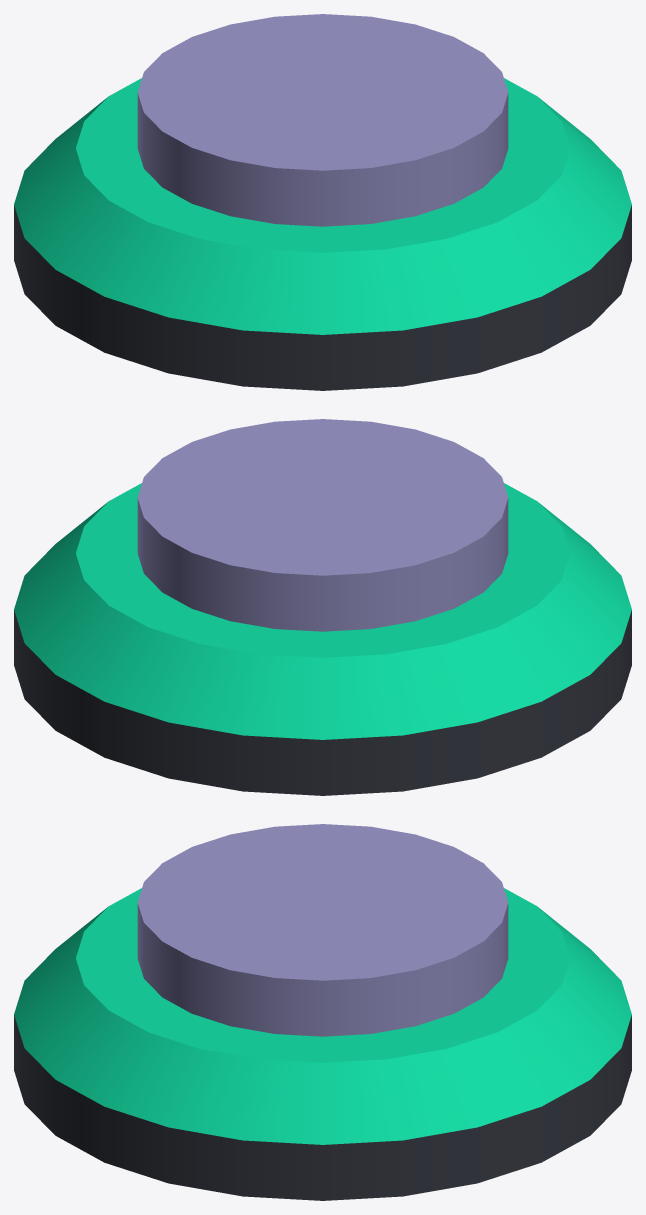
File: Button.fbx
3 renders of one model, top to bottom at view 1: azimuth 30°, elevation 25°; view 2: azimuth 150°, elevation 25°; view 3: azimuth 270°, elevation 25°, orthographic.
Parts seen in each view (by area): view 1: mergedBlocks; view 2: mergedBlocks; view 3: mergedBlocks.
Part boxes in pixels (<box>): mergedBlocks: <box>14,14,631,390</box>; mergedBlocks: <box>14,419,631,795</box>; mergedBlocks: <box>14,824,631,1200</box>.
Bounding box in the file's own units: 10 × 3 × 10.
